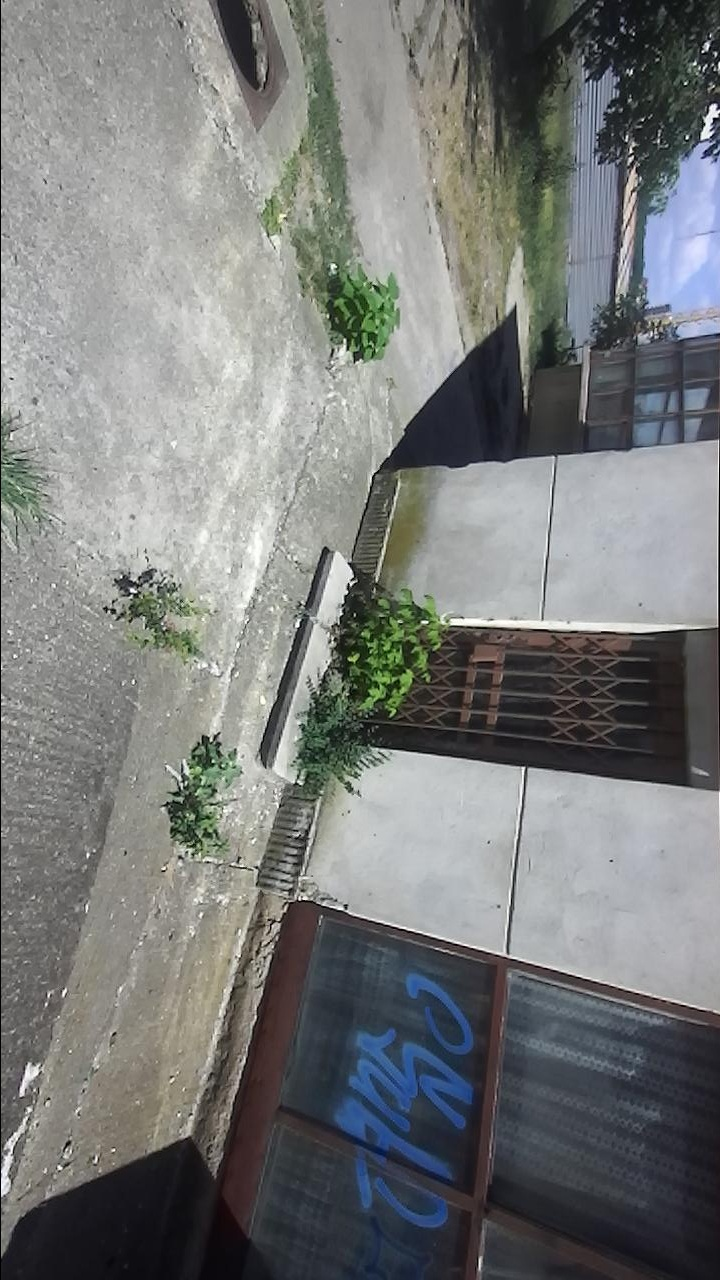drain: (214, 0, 279, 108)
